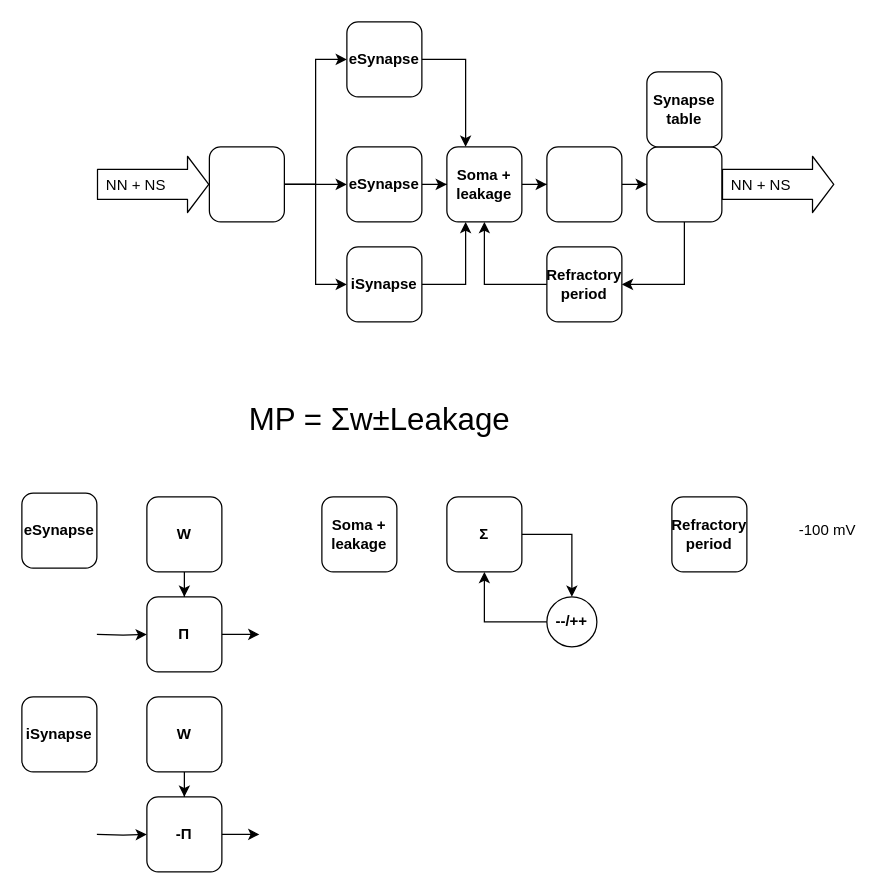
This 894x894 diagram has some shape labels left out. The shapes that lost their labels are listed below. From the top down, each one's centre as x and y in pixels, then its label:
pixel 246 184: Router
pixel 584 184: Threshold
pixel 684 184: Out spike generator
